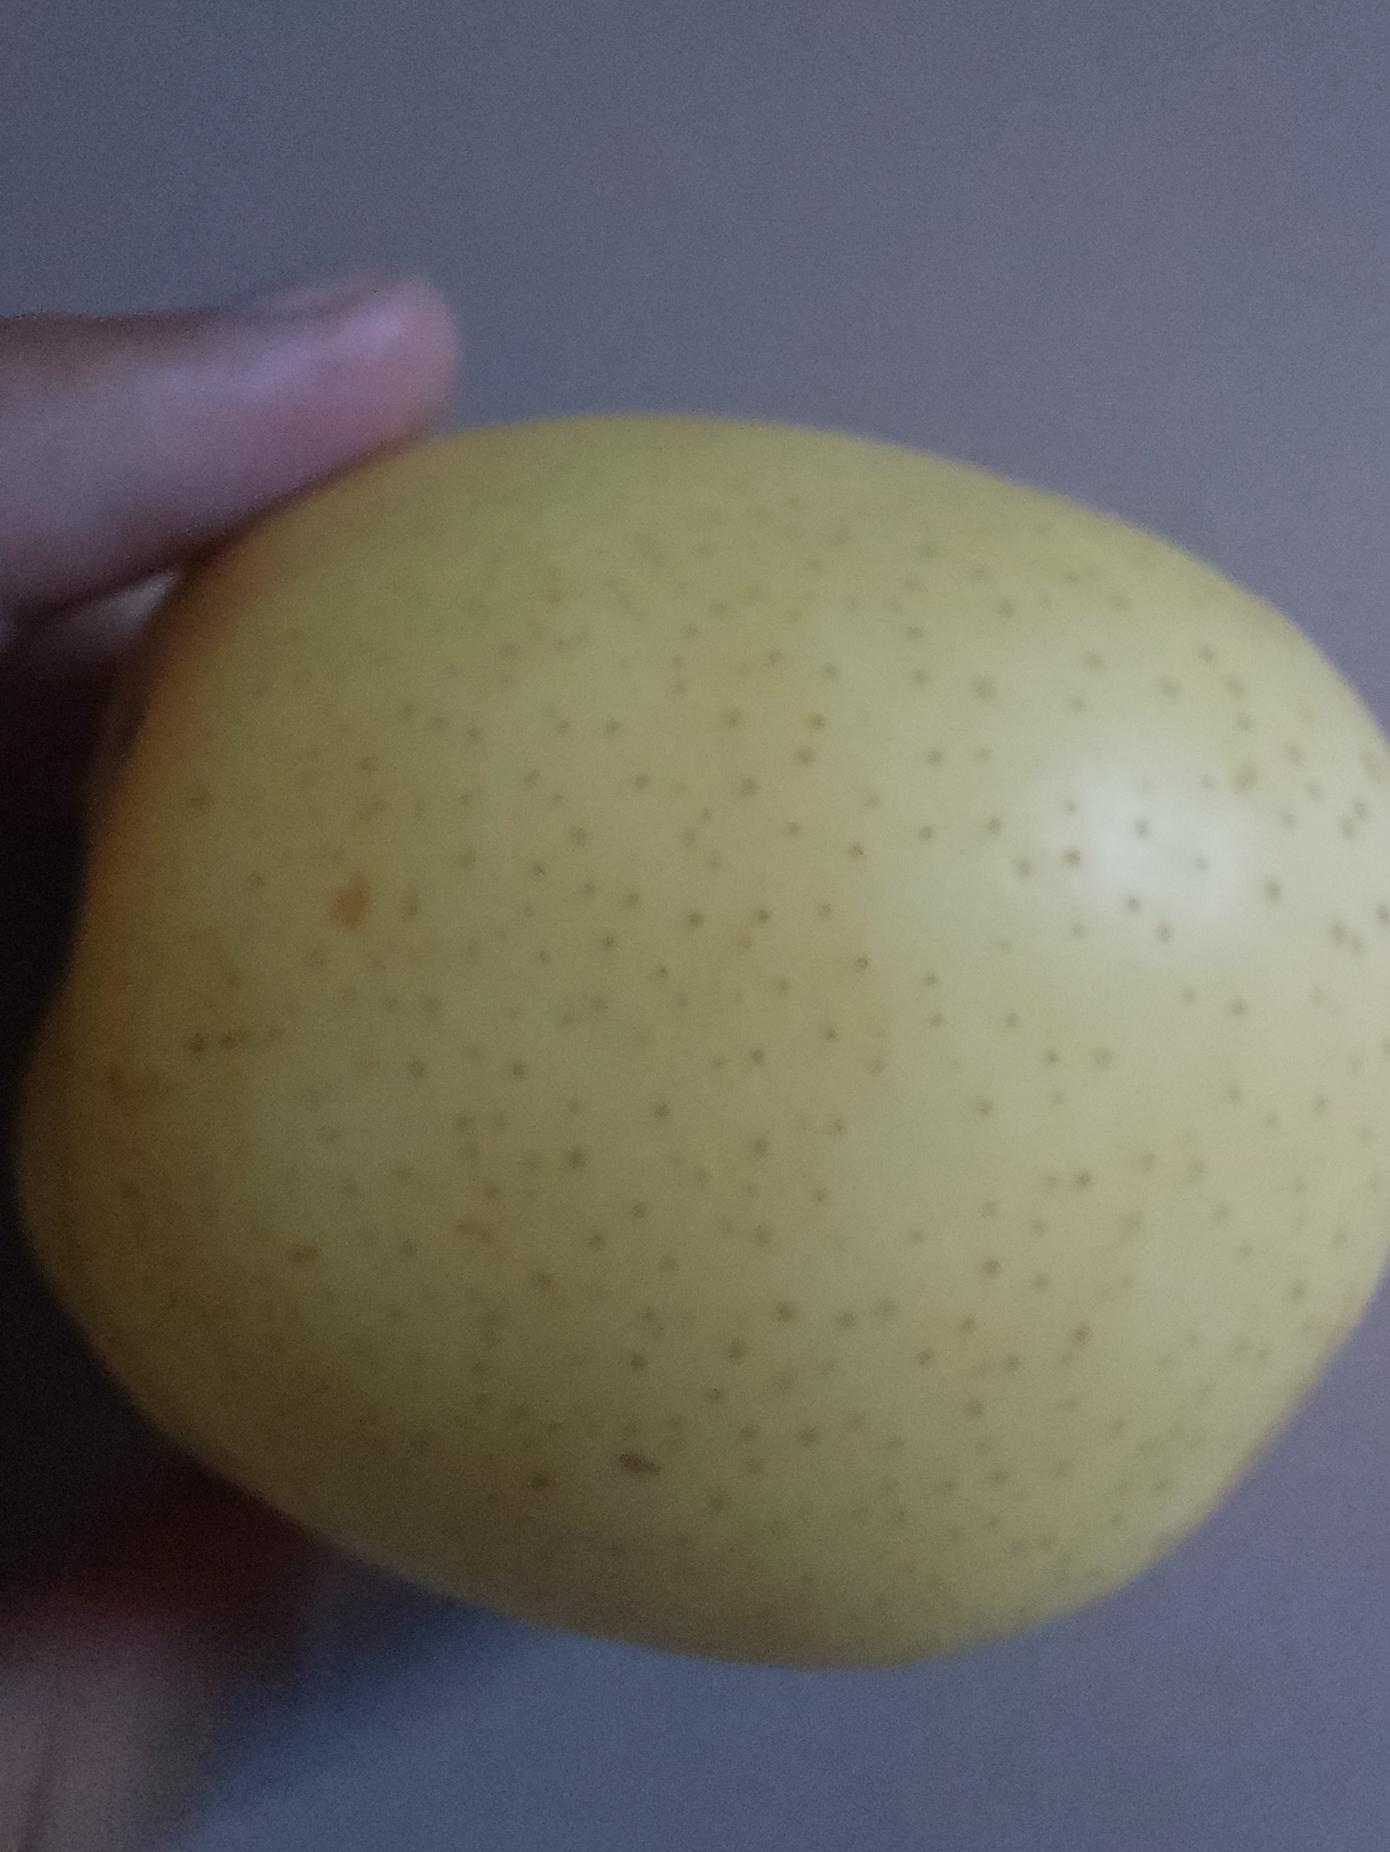Good Pear: (14, 396, 1390, 1670)
